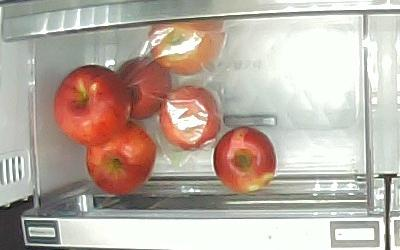apple: (53, 66, 131, 144), (86, 122, 156, 198), (213, 126, 276, 194)
apple_vinyl: (147, 19, 226, 76), (160, 86, 222, 151), (117, 58, 172, 121)
